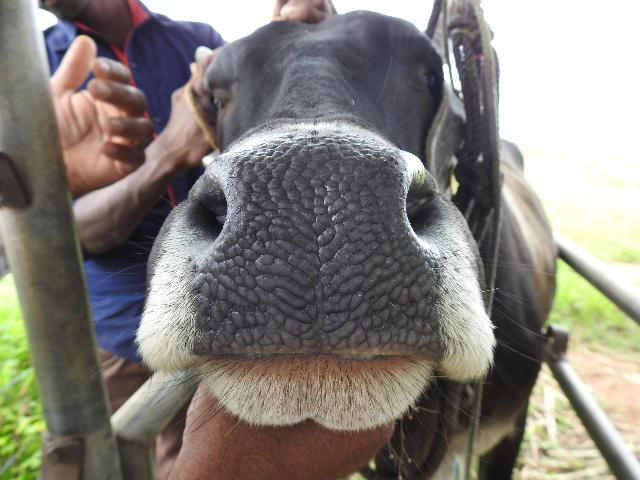Muzzle: (228, 156, 404, 348)
